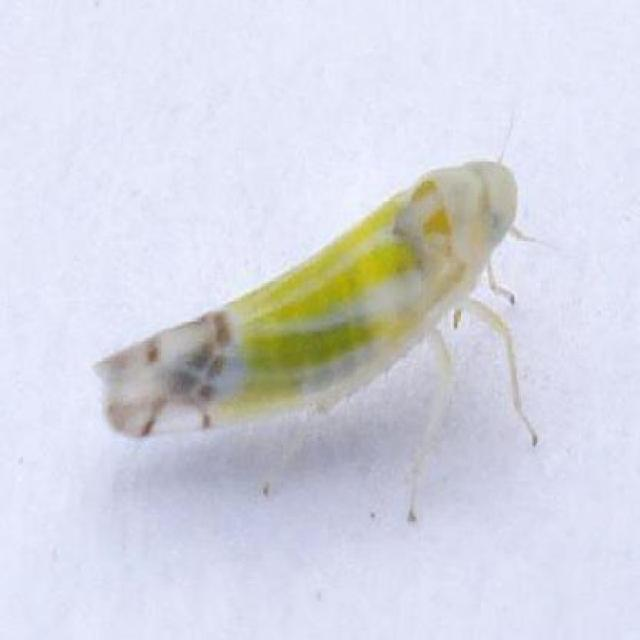green-leafhopper: (90, 159, 558, 525)
